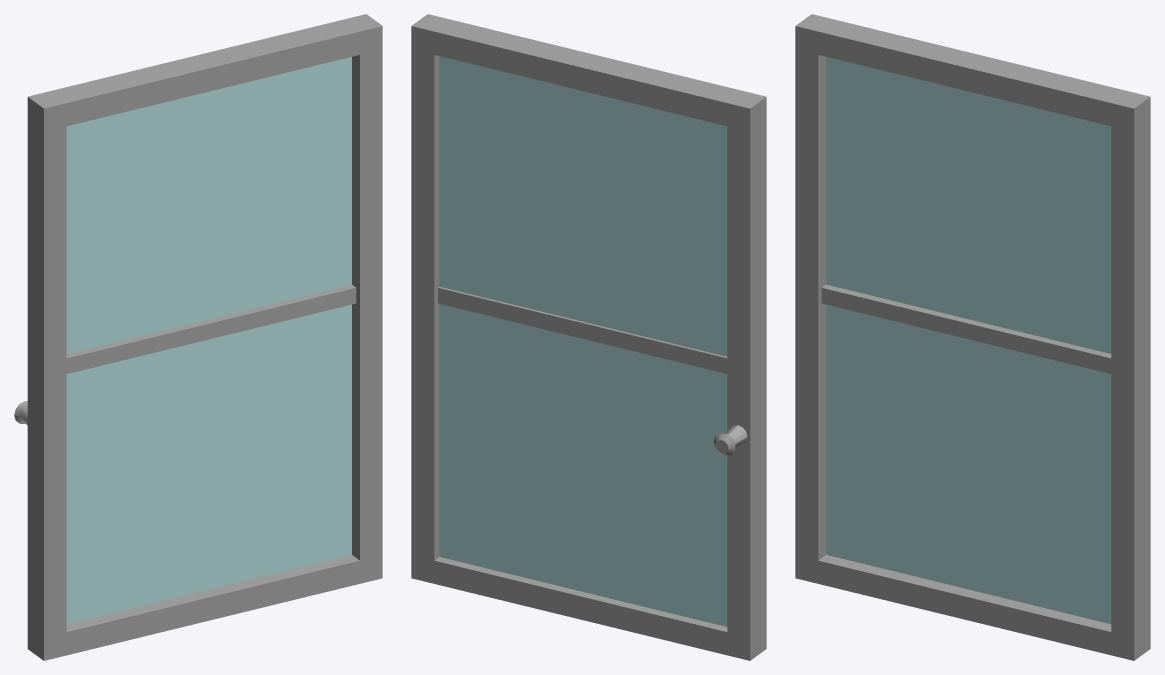
Rendered from OpenableWindowL.fbx.
3 views of the same model, side by side, from view 1: azimuth 30°, elevation 25°; view 2: azimuth 150°, elevation 25°; view 3: azimuth 330°, elevation 25° (orthographic).
Visible parts, largest first — view 1: OpenableWindowR1; view 2: OpenableWindowR1; view 3: OpenableWindowR1.
Boxes of the visible parts, x1,y1,x2,y2 form: OpenableWindowR1: (14, 14, 382, 660); OpenableWindowR1: (411, 14, 766, 660); OpenableWindowR1: (795, 14, 1150, 660).
Size of the model in its own units: 1.13 by 1.76 by 0.1901.
